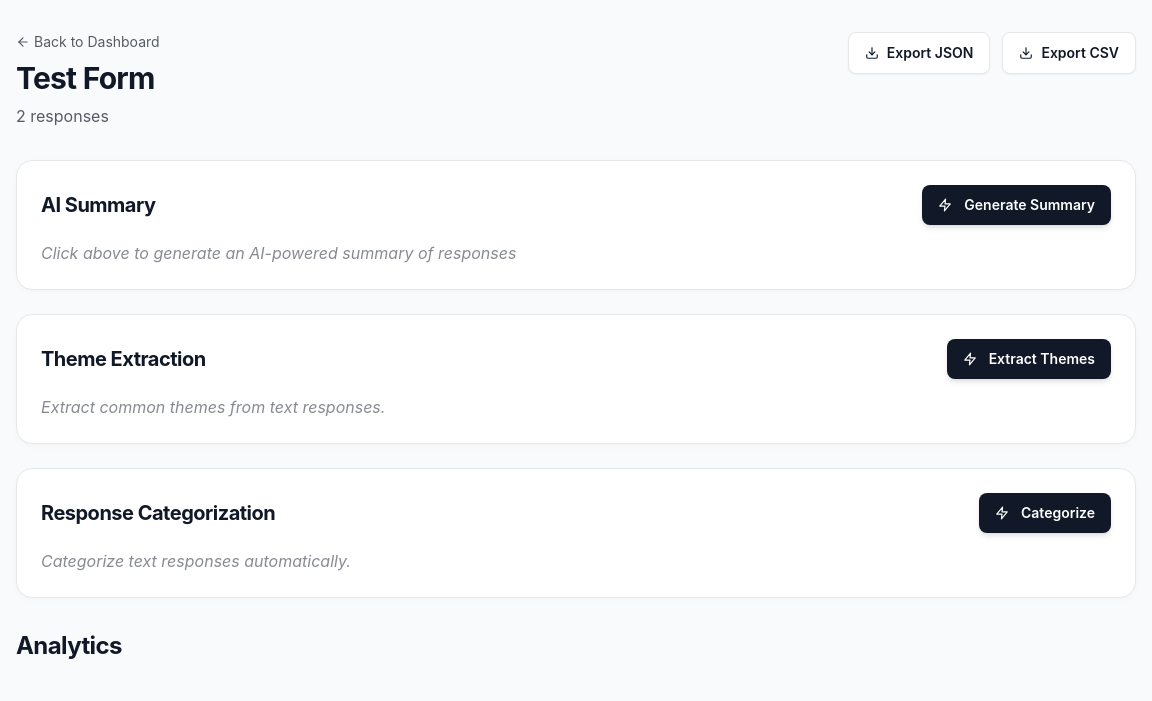
Test: Responses Phase 7 AI Features › renders AI Summary and handles summary generation
Check: the heading "AI Summary" is shown, box [41,191,156,219]
Step 1. Click the button "Generate Summary" → x=1017, y=205, box [922,185,1111,225]
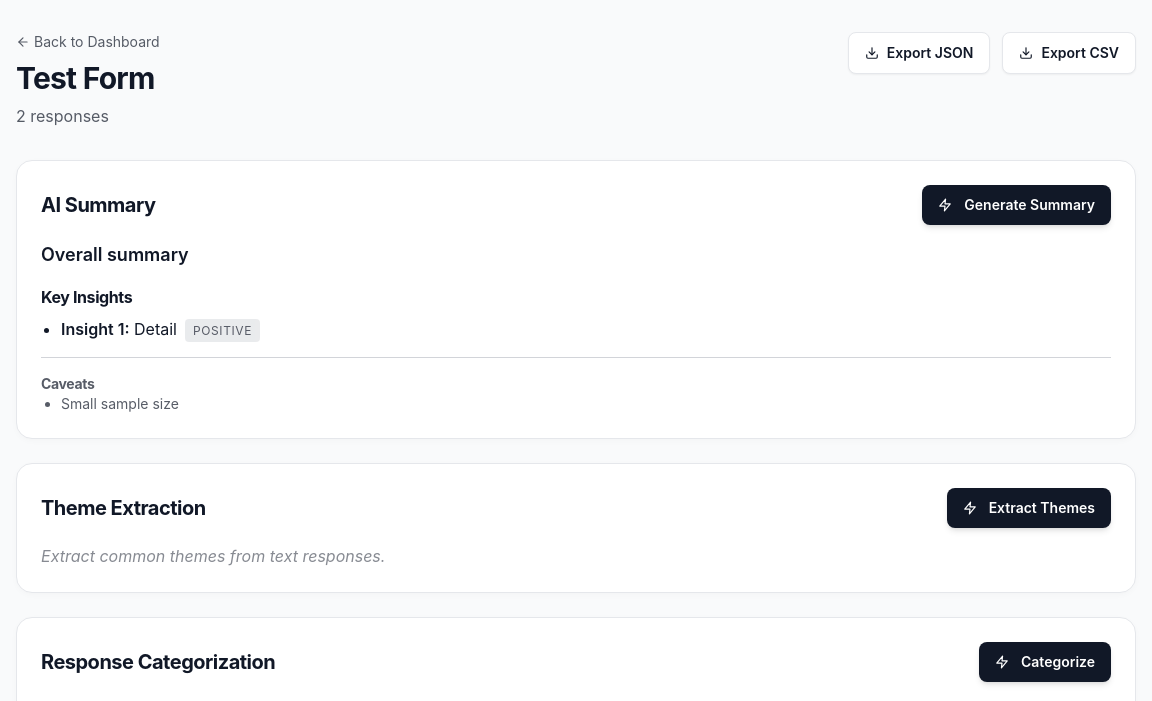
Check: the text "Overall summary" is shown, box [41,244,189,265]
Check: the text "Insight 1:" is shown, box [61,319,130,339]
Check: the list item "Small sample size" is shown, box [61,395,179,412]
